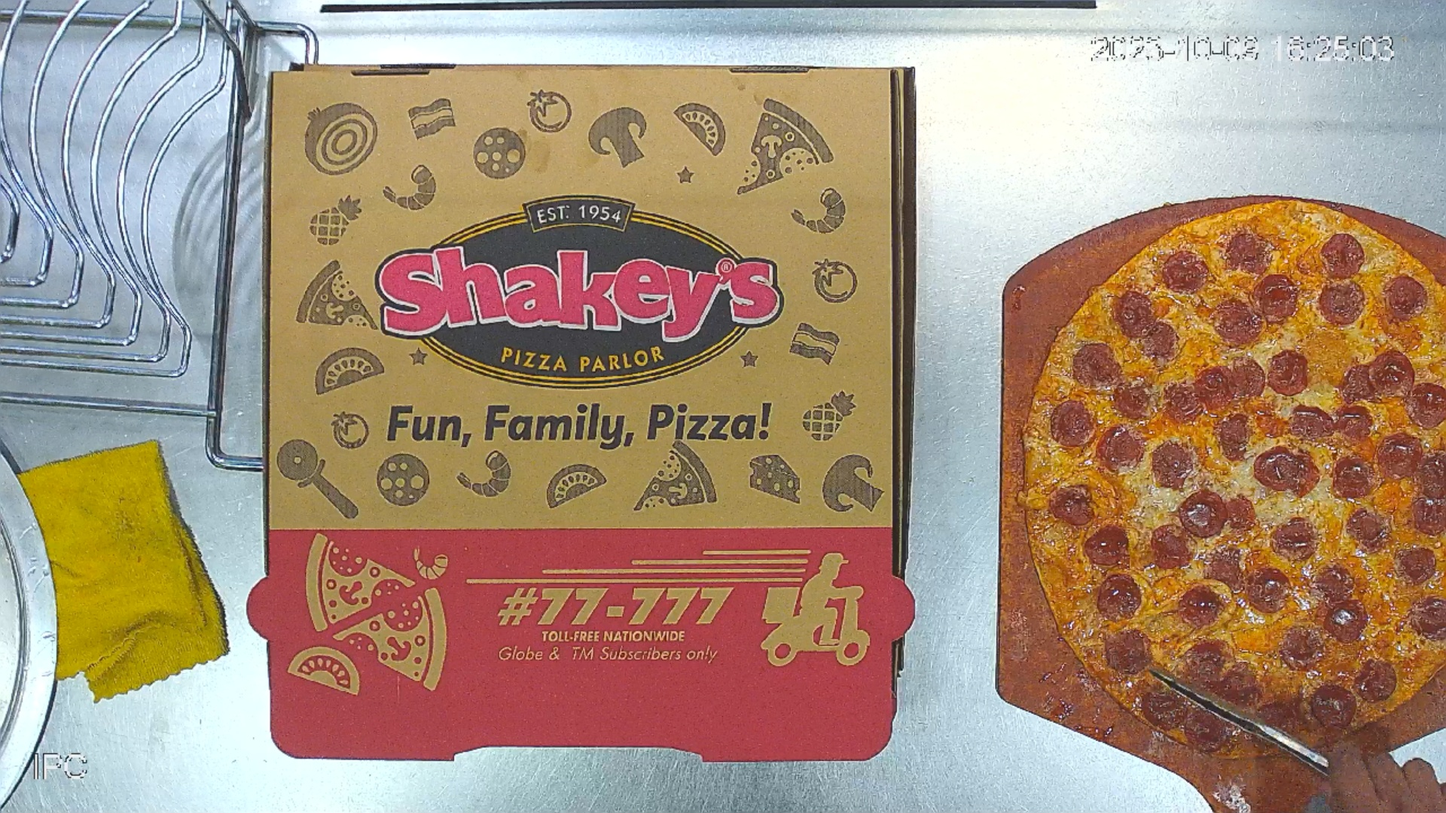pepperoni: (1022, 200, 1446, 767)
